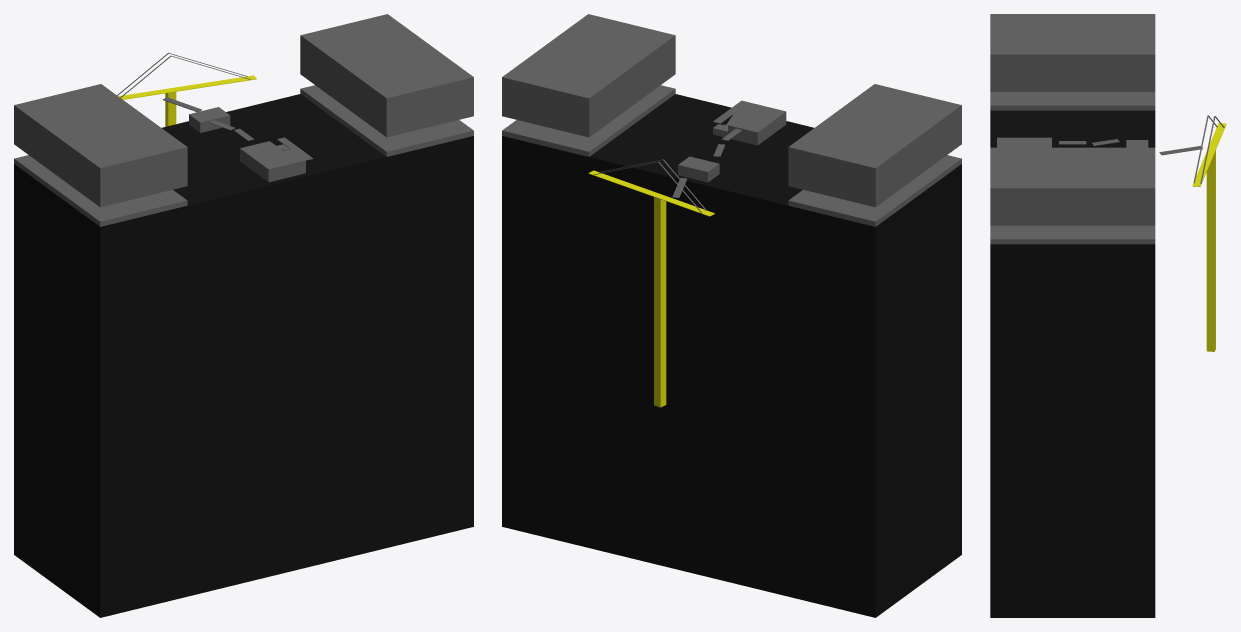
The model's file is basic_map.glb.
3 renders of one model, left to right at view 1: azimuth 30°, elevation 25°; view 2: azimuth 150°, elevation 25°; view 3: azimuth 270°, elevation 25°, orthographic. The views are drawn at different scales.
Parts seen in each view (by area): view 1: Cube.001, Cube.014, Cube.017, Cube.016, Cube.013, Cube, Cube.004, Cube.006; view 2: Cube.001, Cube.014, Cube.017, Cube.016, Cube.013, Cube.015, Cube, Cube.004, Cube.006; view 3: Cube.001, Cube.014, Cube.017, Cube.013, Cube.016, Cube.015, Cube, Cube.006.
Part boxes in pixels (x1=…): Cube.001: x1=14, y1=94, x2=473, y2=617; Cube.014: x1=300, y1=14, x2=473, y2=137; Cube.017: x1=14, y1=84, x2=187, y2=207; Cube.016: x1=14, y1=155, x2=187, y2=226; Cube.013: x1=300, y1=85, x2=473, y2=156; Cube: x1=240, y1=141, x2=298, y2=182; Cube.004: x1=189, y1=107, x2=230, y2=132; Cube.006: x1=118, y1=75, x2=256, y2=99; Cube.001: x1=502, y1=94, x2=961, y2=617; Cube.014: x1=502, y1=14, x2=675, y2=137; Cube.017: x1=788, y1=84, x2=961, y2=207; Cube.016: x1=788, y1=155, x2=961, y2=226; Cube.013: x1=502, y1=85, x2=675, y2=156; Cube.015: x1=654, y1=197, x2=666, y2=407; Cube: x1=728, y1=104, x2=786, y2=145; Cube.004: x1=678, y1=156, x2=719, y2=182; Cube.006: x1=588, y1=170, x2=714, y2=216; Cube.001: x1=990, y1=110, x2=1155, y2=617; Cube.014: x1=990, y1=147, x2=1155, y2=225; Cube.017: x1=990, y1=14, x2=1155, y2=91; Cube.013: x1=990, y1=225, x2=1155, y2=244; Cube.016: x1=990, y1=92, x2=1155, y2=110; Cube.015: x1=1206, y1=150, x2=1215, y2=351; Cube: x1=997, y1=137, x2=1051, y2=147; Cube.006: x1=1192, y1=123, x2=1226, y2=186.
Bounding box in the file's own units: 300 × 345 × 172.
